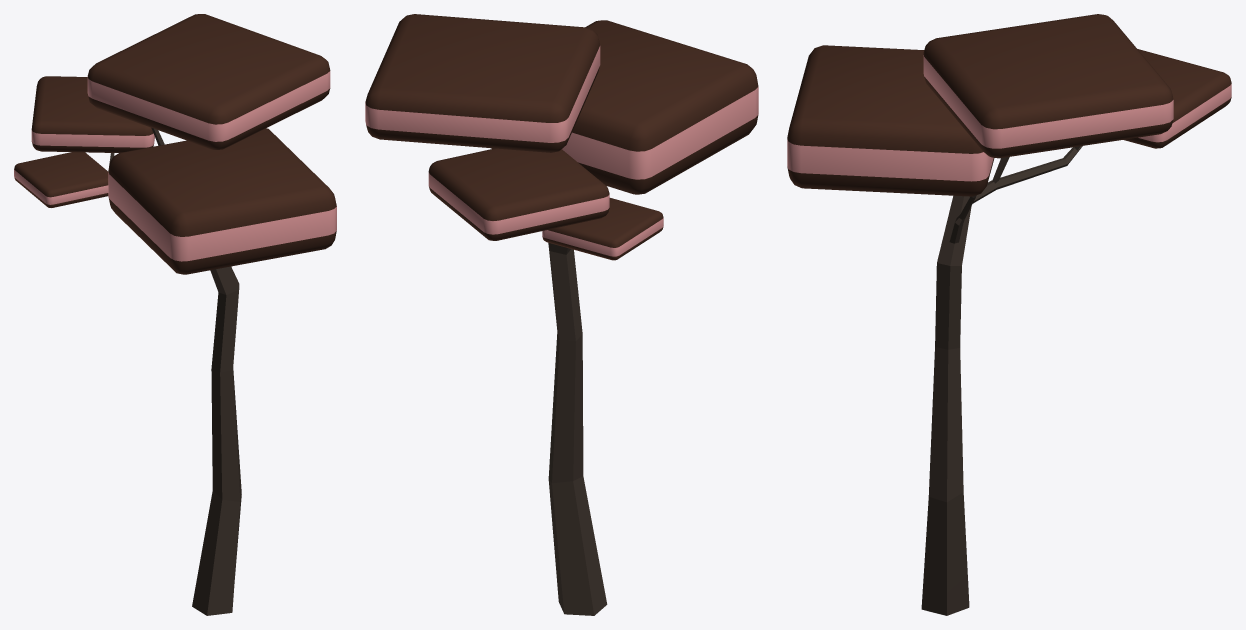
The model's file is tree_pink.glb.
3 renders of one model, left to right at view 1: azimuth 30°, elevation 25°; view 2: azimuth 150°, elevation 25°; view 3: azimuth 270°, elevation 25°, orthographic. The views are drawn at different scales.
Visible parts, largest first — view 1: TreeTall_01; view 2: TreeTall_01; view 3: TreeTall_01.
Boxes of the visible parts, x1,y1,x2,y2 form: TreeTall_01: [14, 14, 336, 615]; TreeTall_01: [365, 14, 758, 615]; TreeTall_01: [787, 14, 1231, 615].
Size of what is drawn, in the model's own units: 2.45 by 4.59 by 3.27.
Materials: 1 (1 with a texture image).
